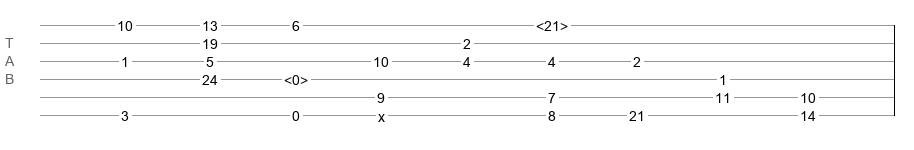0: (292, 108, 300, 118)
1: (121, 54, 129, 64), (719, 72, 727, 82)
10: (117, 18, 133, 28), (373, 54, 389, 64), (800, 90, 816, 100)
11: (715, 90, 731, 100)
13: (202, 18, 218, 28)
14: (800, 108, 816, 118)
19: (202, 36, 218, 46)
2: (463, 36, 471, 46), (633, 54, 641, 64)
21: (629, 108, 645, 118)
24: (202, 72, 218, 82)
3: (121, 108, 129, 118)
4: (463, 54, 471, 64), (548, 54, 556, 64)
5: (206, 54, 214, 64)
6: (292, 18, 300, 28)
7: (548, 90, 556, 100)
8: (548, 108, 556, 118)
9: (377, 90, 385, 100)
harmonic: (536, 18, 568, 28), (284, 72, 308, 82)
x: (378, 109, 385, 117)
